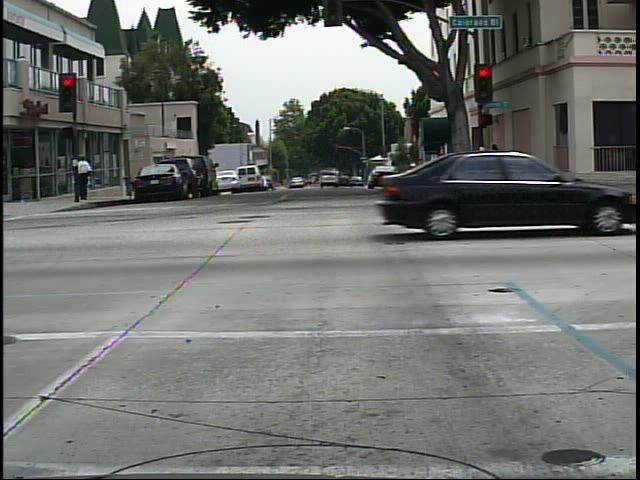person: (480, 138, 511, 191), (79, 149, 99, 203)
